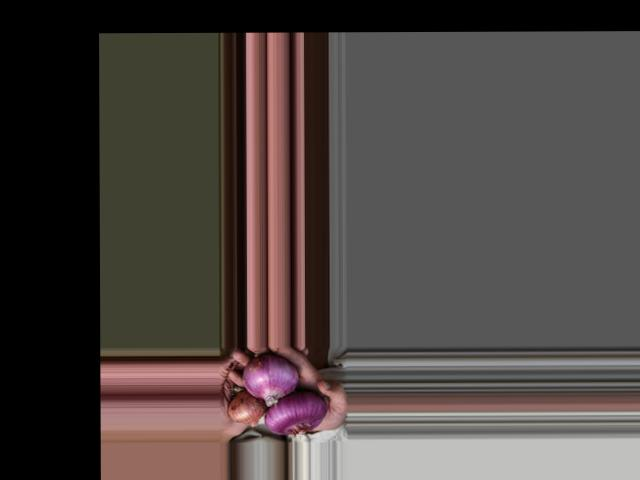onion: (266, 394, 326, 433)
